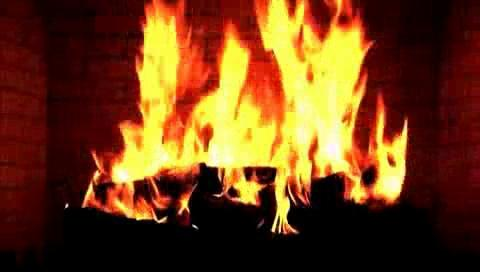fire: (99, 17, 397, 221)
